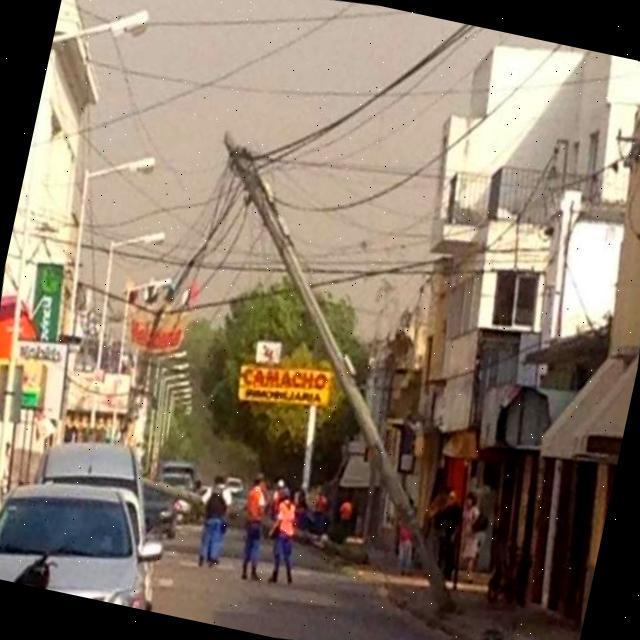Broken Pole: (223, 128, 451, 606)
